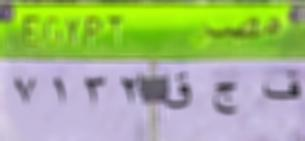1: (48, 73, 72, 115)
2: (113, 70, 146, 110)
3: (77, 68, 109, 113)
7: (11, 74, 40, 111)
faa: (259, 67, 305, 110)
jeem: (206, 76, 241, 126)
qaaf: (160, 73, 198, 116)
